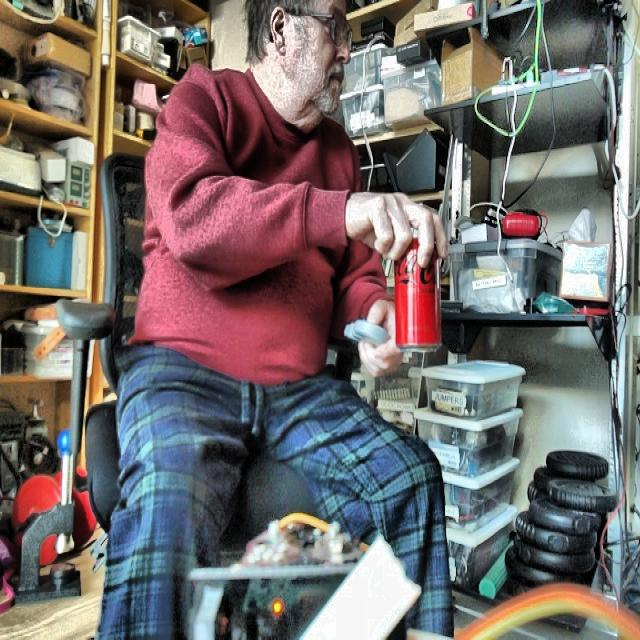Can: (394, 238, 440, 351)
